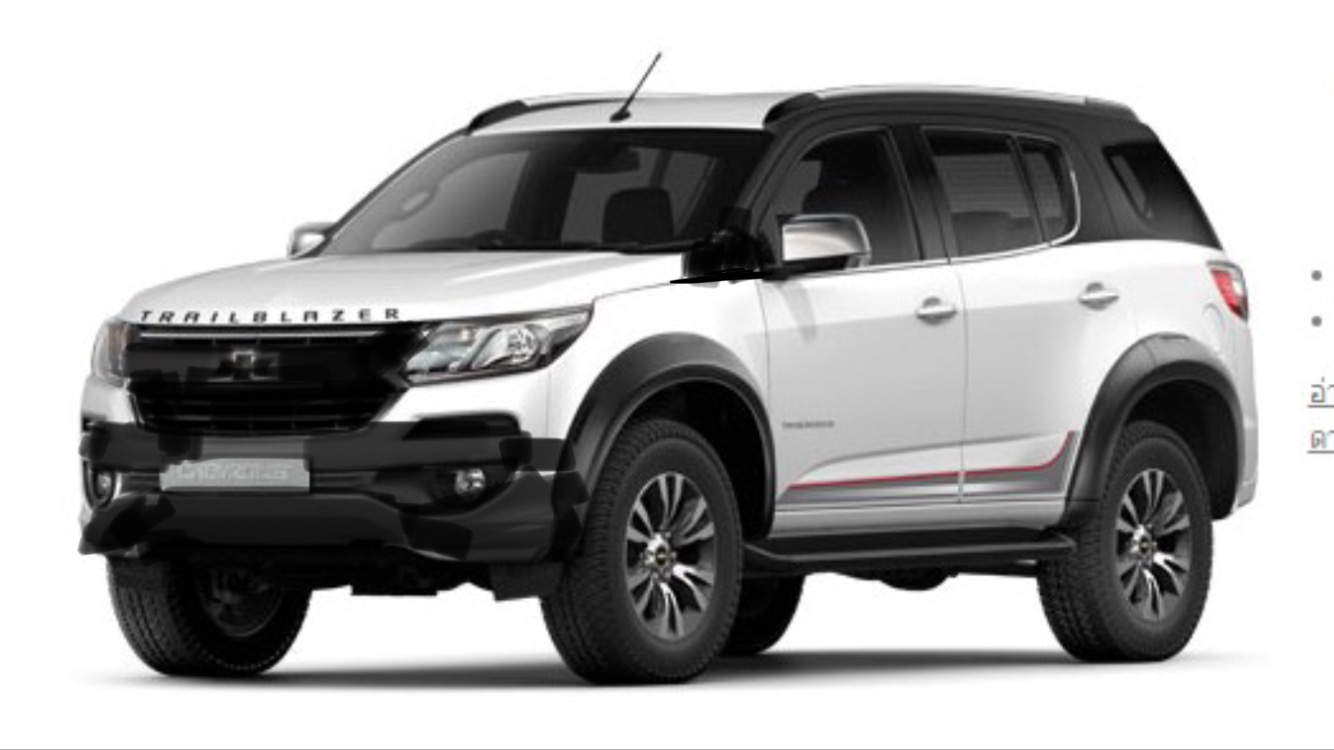pickup: (70, 81, 1268, 685)
